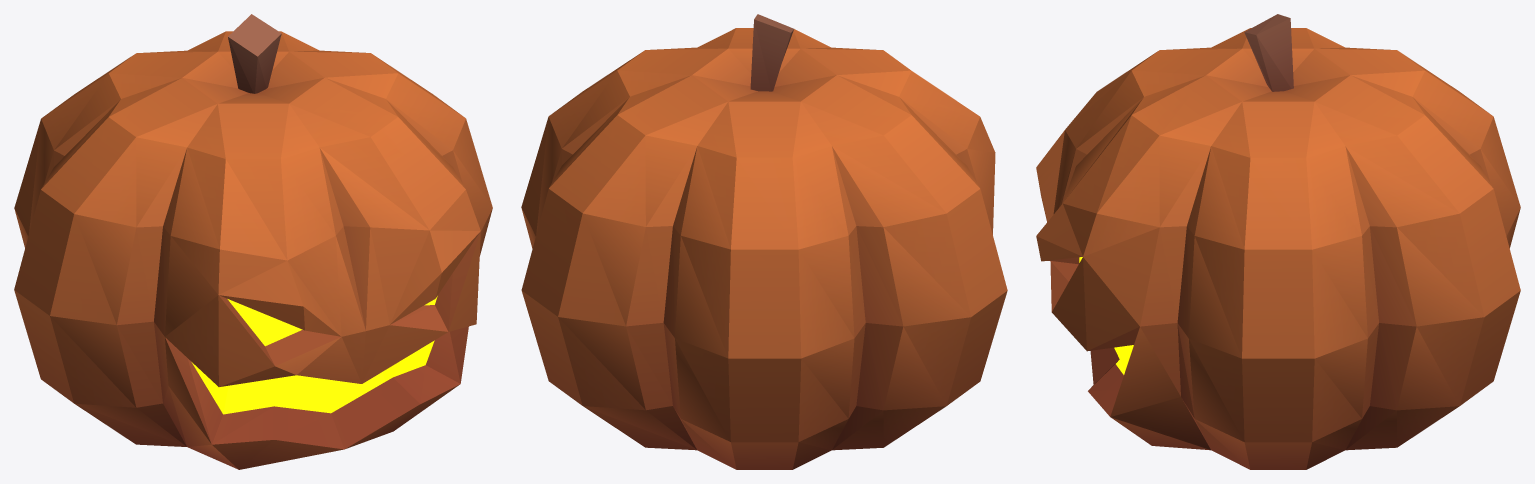
Rendered from lowpoly_pumpkin_full_scaled.glb.
3 renders of one model, left to right at view 1: azimuth 30°, elevation 25°; view 2: azimuth 150°, elevation 25°; view 3: azimuth 270°, elevation 25°, orthographic.
Visible parts, largest first — view 1: pumpkin_orange_jackolantern; view 2: pumpkin_orange_jackolantern; view 3: pumpkin_orange_jackolantern.
Part boxes in pixels (bbox=[...]): pumpkin_orange_jackolantern: bbox=[14, 14, 492, 469]; pumpkin_orange_jackolantern: bbox=[521, 14, 1007, 469]; pumpkin_orange_jackolantern: bbox=[1036, 14, 1520, 469].
Size of the model in its own units: 0.75 by 0.6479 by 0.7.
2 materials, 1 textured.
